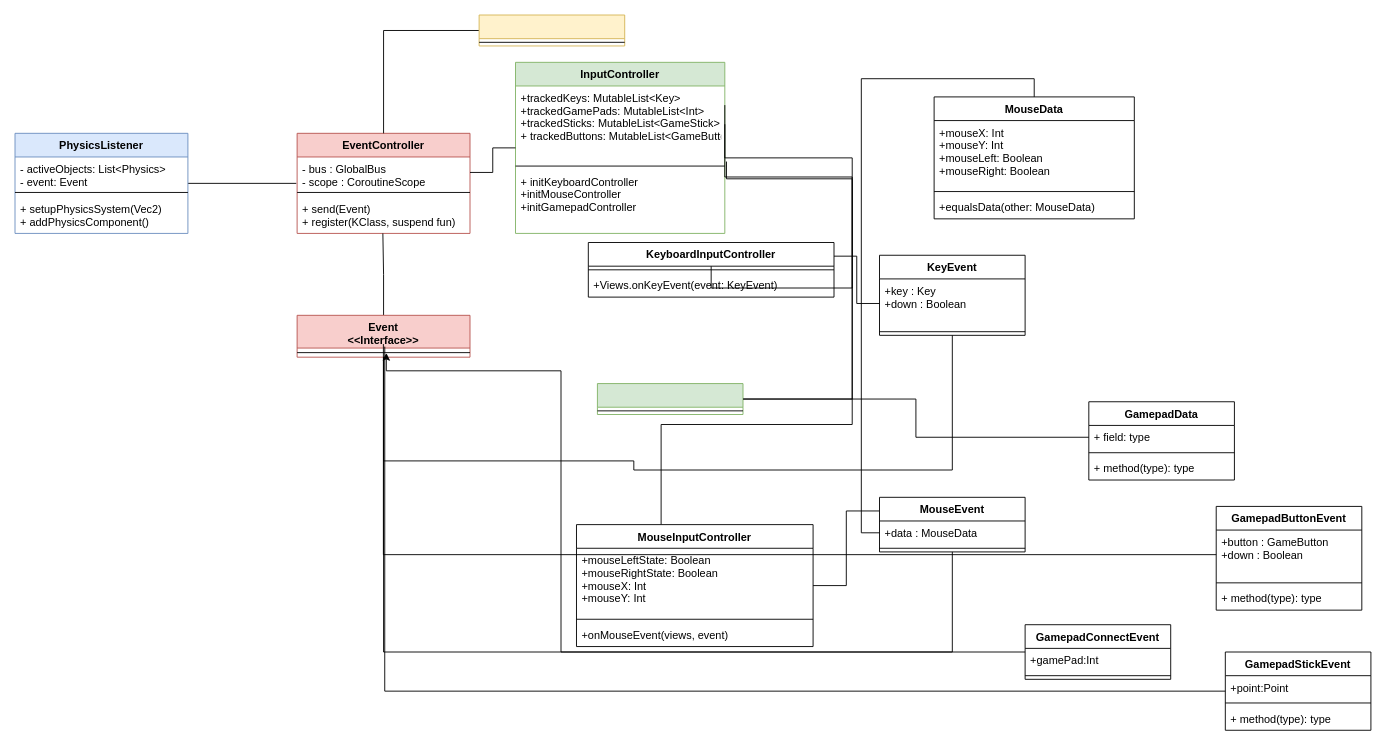
Image size: 1386x745. Some labels were removed from this diagram. The centre of each missing label's shape, as x and y in pixels:
EventDebugger: (x=551, y=30)
GamepadController: (x=670, y=399)
